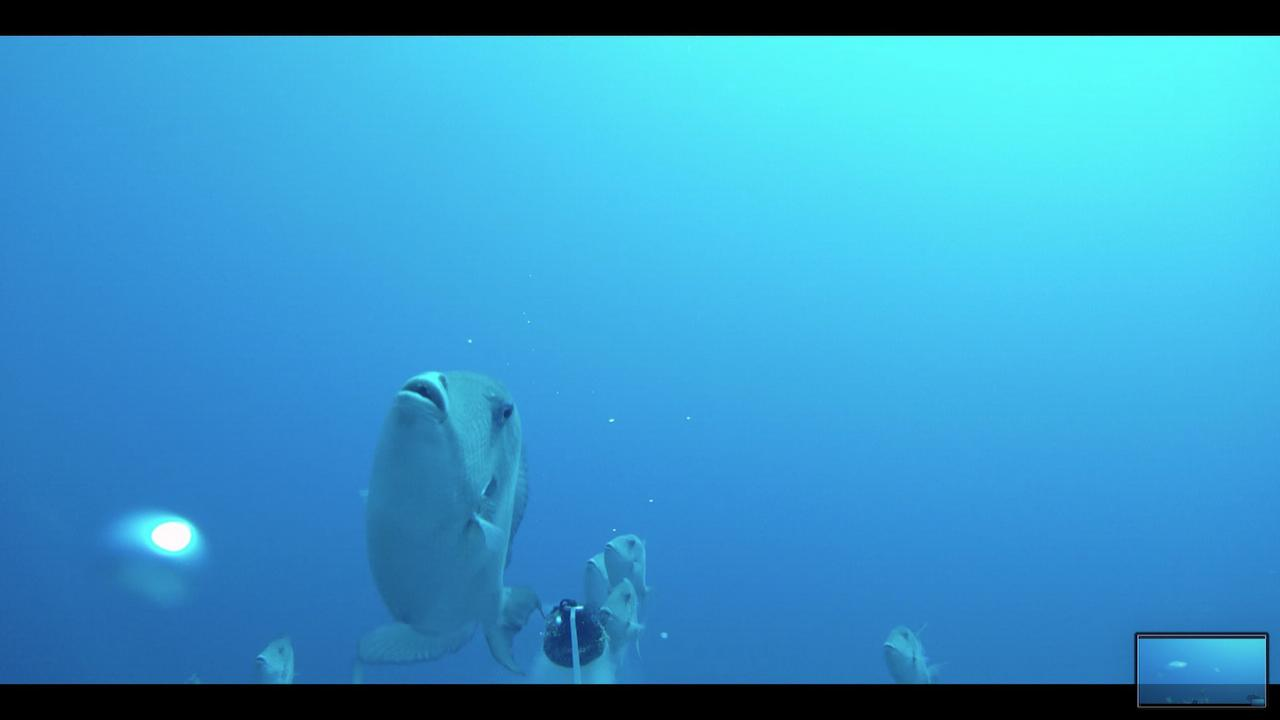balistes: (362, 364, 543, 672), (881, 609, 967, 683), (601, 525, 667, 602), (597, 576, 647, 657), (242, 633, 314, 683), (570, 540, 616, 610)
